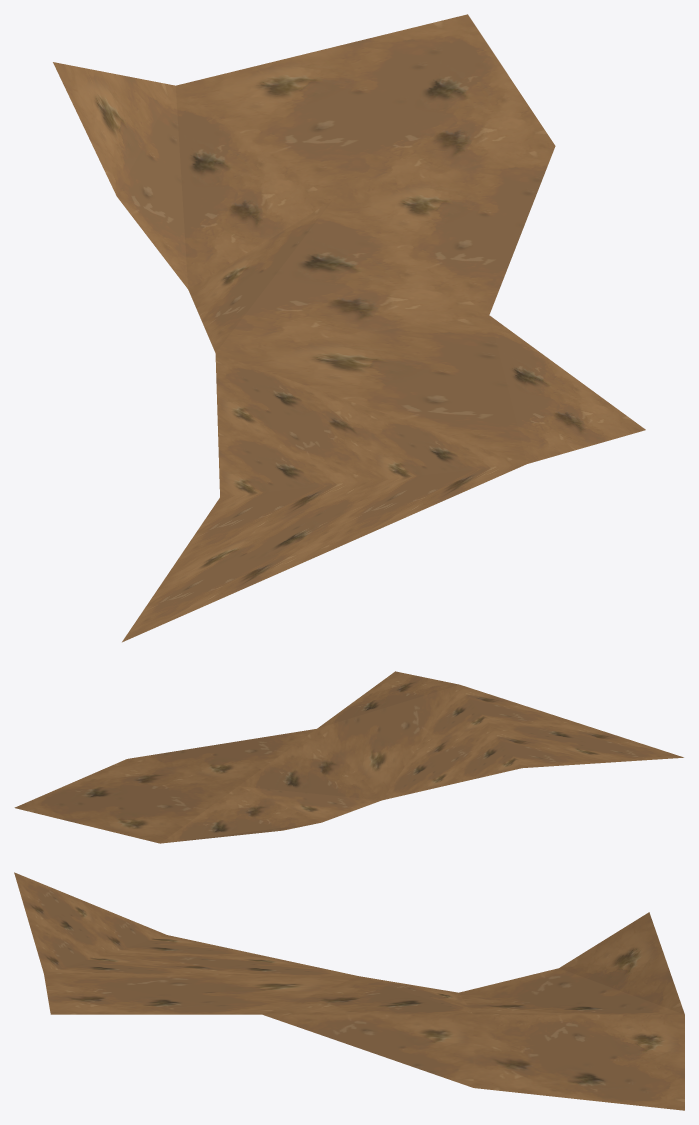
3 views of the same model, one above another, from view 1: azimuth 30°, elevation 25°; view 2: azimuth 150°, elevation 25°; view 3: azimuth 270°, elevation 25° (orthographic). The views are drawn at different scales.
Visible parts, largest first — view 1: Object11; view 2: Object11; view 3: Object11.
Boxes of the visible parts, x1=… form: Object11: x1=53, y1=14, x2=645, y2=642; Object11: x1=14, y1=671, x2=683, y2=843; Object11: x1=14, y1=872, x2=684, y2=1110.
Size of the model in its own units: 6644 by 1034 by 6786.
1 material, 1 textured.
